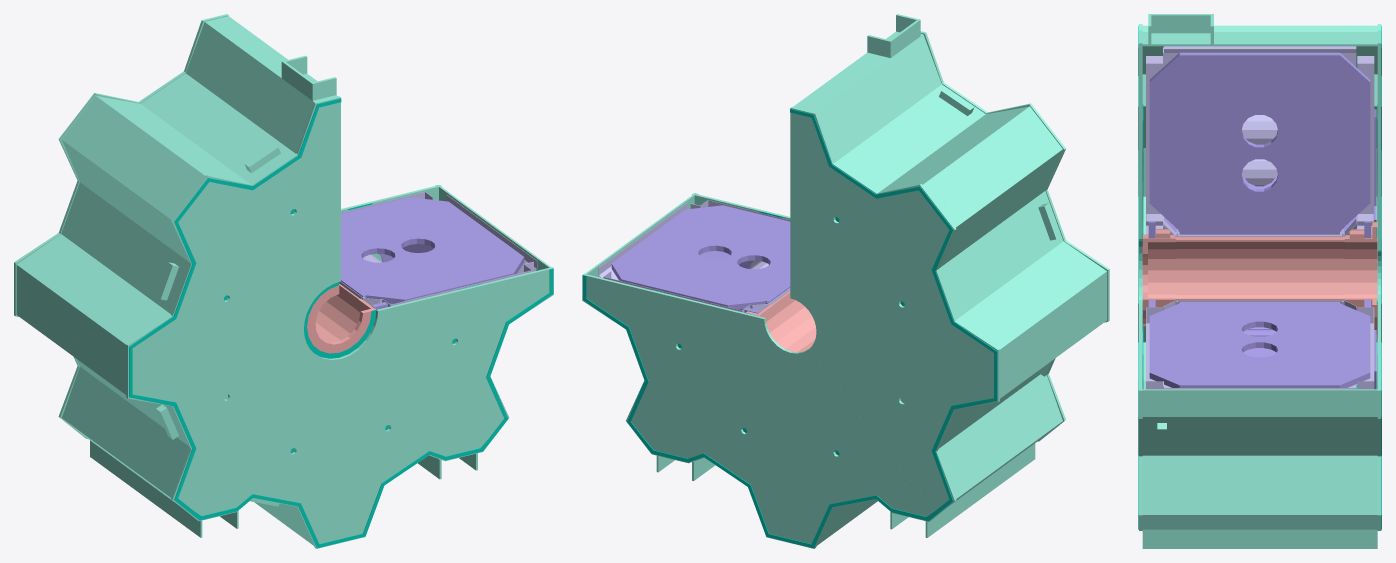
Rendered from End-Cap-Toroid-SideA-cut4.glb.
3 renders of one model, left to right at view 1: azimuth 30°, elevation 25°; view 2: azimuth 150°, elevation 25°; view 3: azimuth 270°, elevation 25°, orthographic. The views are drawn at different scales.
Visible parts, largest first — view 1: S__0469C088, S__04CB5DB8, S__047E7608, S__04CC2A58, S__046A9078; view 2: S__0469C088, S__04CB5DB8, S__047E7608, S__04CC2A58, S__046A9078; view 3: S__04CB5DB8, S__0469C088, S__04CC2A58, S__046A9078, S__047E7608.
Boxes of the visible parts, <box> form: S__0469C088: <box>14,14,553,548</box>; S__04CB5DB8: <box>341,197,524,309</box>; S__047E7608: <box>129,98,553,548</box>; S__04CC2A58: <box>307,284,375,353</box>; S__046A9078: <box>339,191,537,306</box>; S__0469C088: <box>582,14,1109,548</box>; S__04CB5DB8: <box>611,205,790,313</box>; S__047E7608: <box>583,109,997,547</box>; S__04CC2A58: <box>746,291,816,352</box>; S__046A9078: <box>598,200,790,312</box>; S__04CB5DB8: <box>1148,52,1376,389</box>; S__0469C088: <box>1139,14,1381,548</box>; S__04CC2A58: <box>1142,221,1377,338</box>; S__046A9078: <box>1146,46,1374,389</box>; S__047E7608: <box>1138,25,1381,529</box>.
Bounding box in the file's own units: 10.68 × 11.07 × 4.98.
